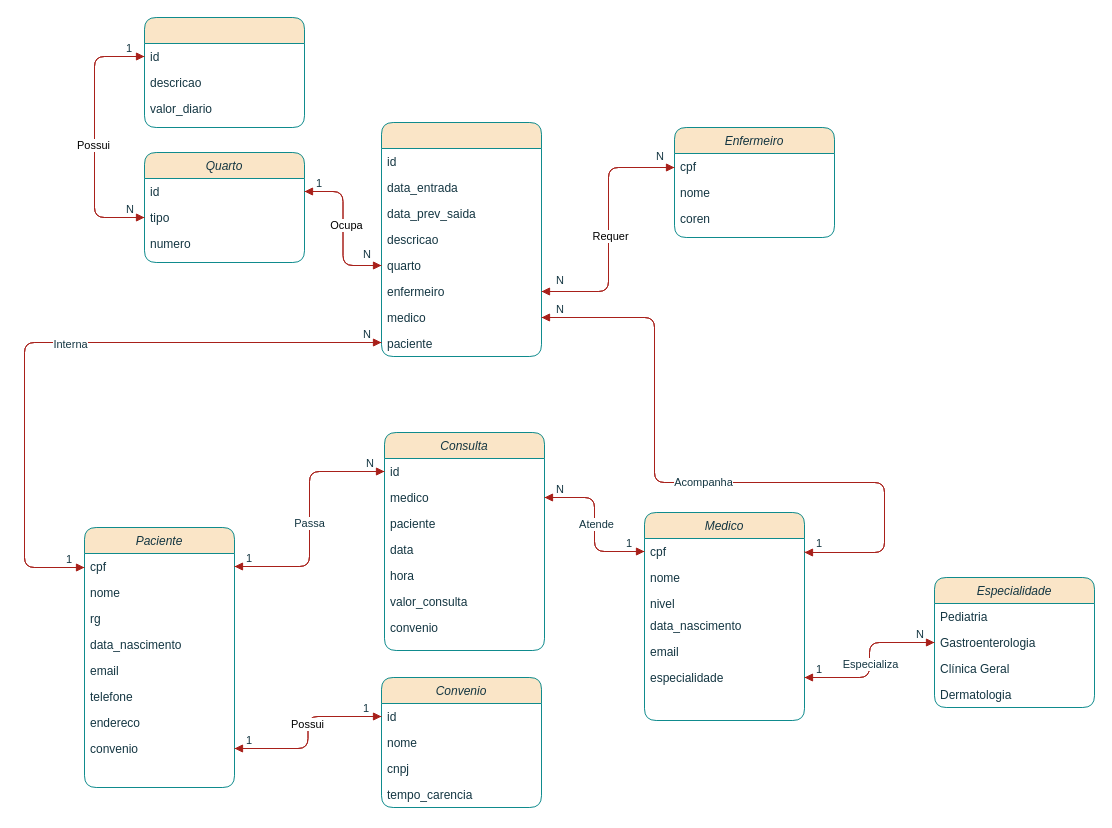
Image size: 1112x828. Some labels were removed from this diagram. Each missing label, with the box of its shape:
Internacao: (380, 122, 542, 356)
TipoQuarto: (144, 16, 304, 128)
